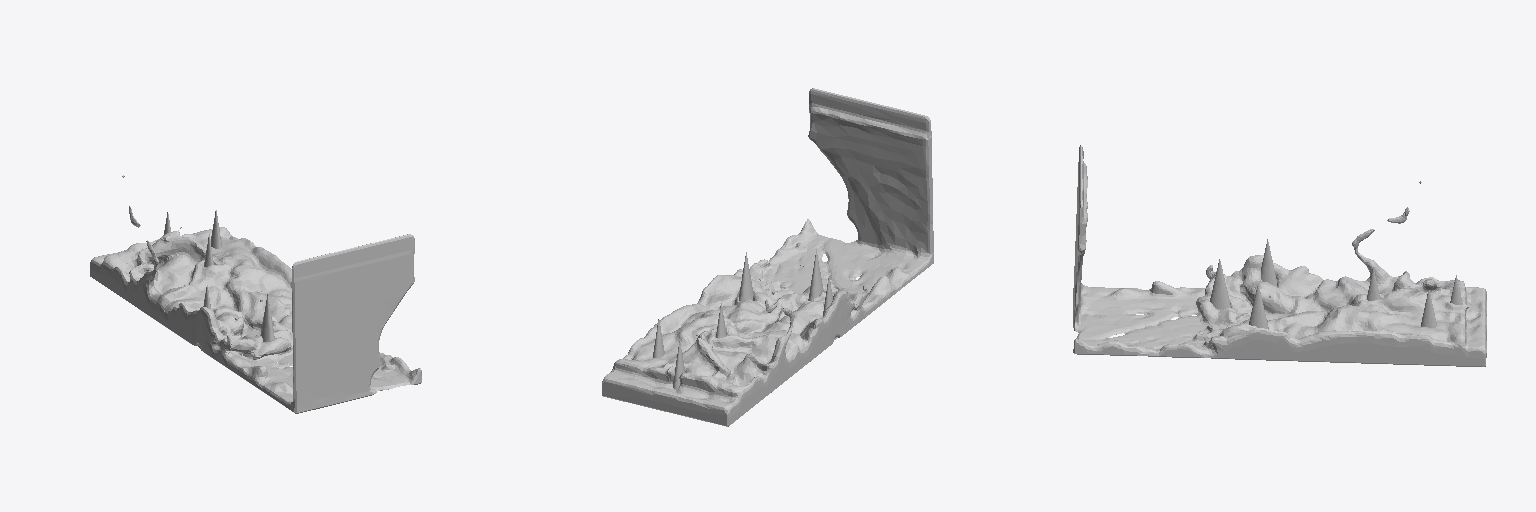
3 renders of one model, left to right at view 1: azimuth 30°, elevation 25°; view 2: azimuth 150°, elevation 25°; view 3: azimuth 270°, elevation 25°, orthographic.
Visible parts, largest first — view 1: Liquid_Domain; view 2: Liquid_Domain; view 3: Liquid_Domain, 円錐.001.
Boxes of the visible parts, box(x1,y1,x2,y2) form: Liquid_Domain: box(90, 175, 421, 413); Liquid_Domain: box(602, 88, 933, 426); Liquid_Domain: box(1073, 145, 1486, 366); 円錐.001: box(1210, 259, 1230, 308).
Bounding box in the file's own units: 129 × 158 × 361.